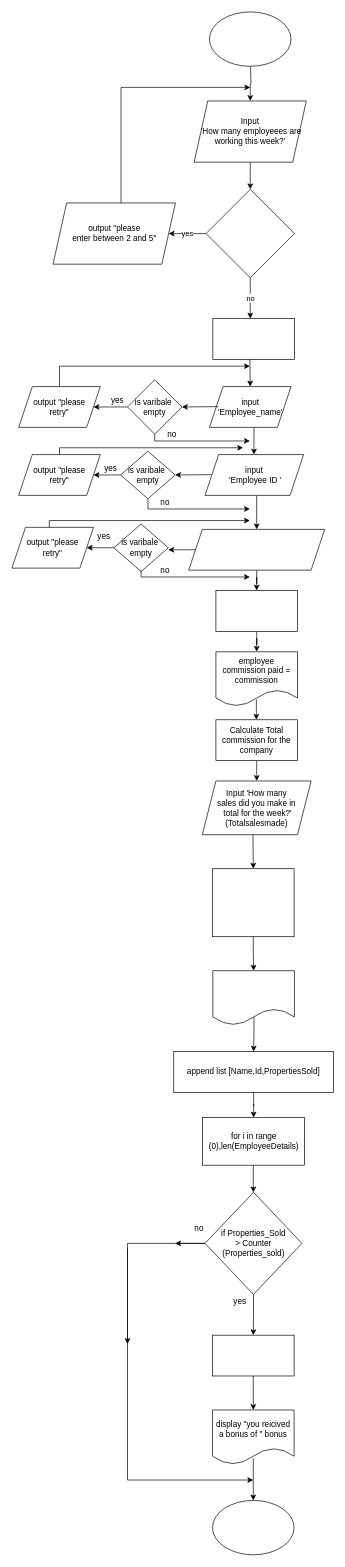
The diagram is 345 pixels wide and 1567 high, and some of its shapes have lost their labels. Each missing label, with the box of its shape:
bonus = properties *500 *(1.15): (212, 1334, 294, 1376)
create list for Employee_Details: (212, 318, 294, 359)
END: (212, 1500, 294, 1555)
If Input is <2 OR 5>: (205, 189, 294, 278)
input 'Number of propreties sold': (188, 529, 325, 570)
Sales = 500 * properties: (215, 590, 298, 631)
start: (209, 11, 291, 66)
Total_Property = Total_Prop + properties: (212, 970, 294, 1025)
TotalSales = Sales + TotalSales: (212, 868, 294, 937)
